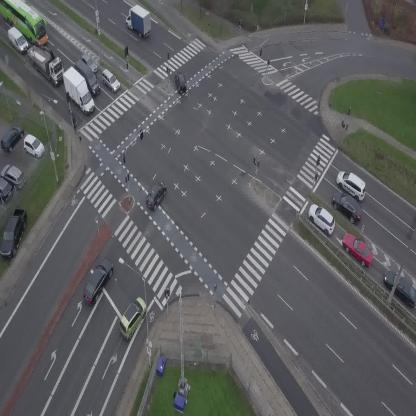bicycle: (72, 114, 79, 132)
car: (78, 253, 120, 306), (113, 294, 152, 342), (337, 228, 379, 271), (327, 186, 368, 226), (331, 166, 372, 203), (303, 200, 341, 237), (141, 179, 171, 213), (97, 67, 124, 94), (79, 51, 101, 74), (173, 70, 188, 93)
lorry: (17, 34, 73, 88), (58, 63, 97, 118), (120, 2, 160, 41), (72, 57, 104, 98), (3, 25, 33, 55)
